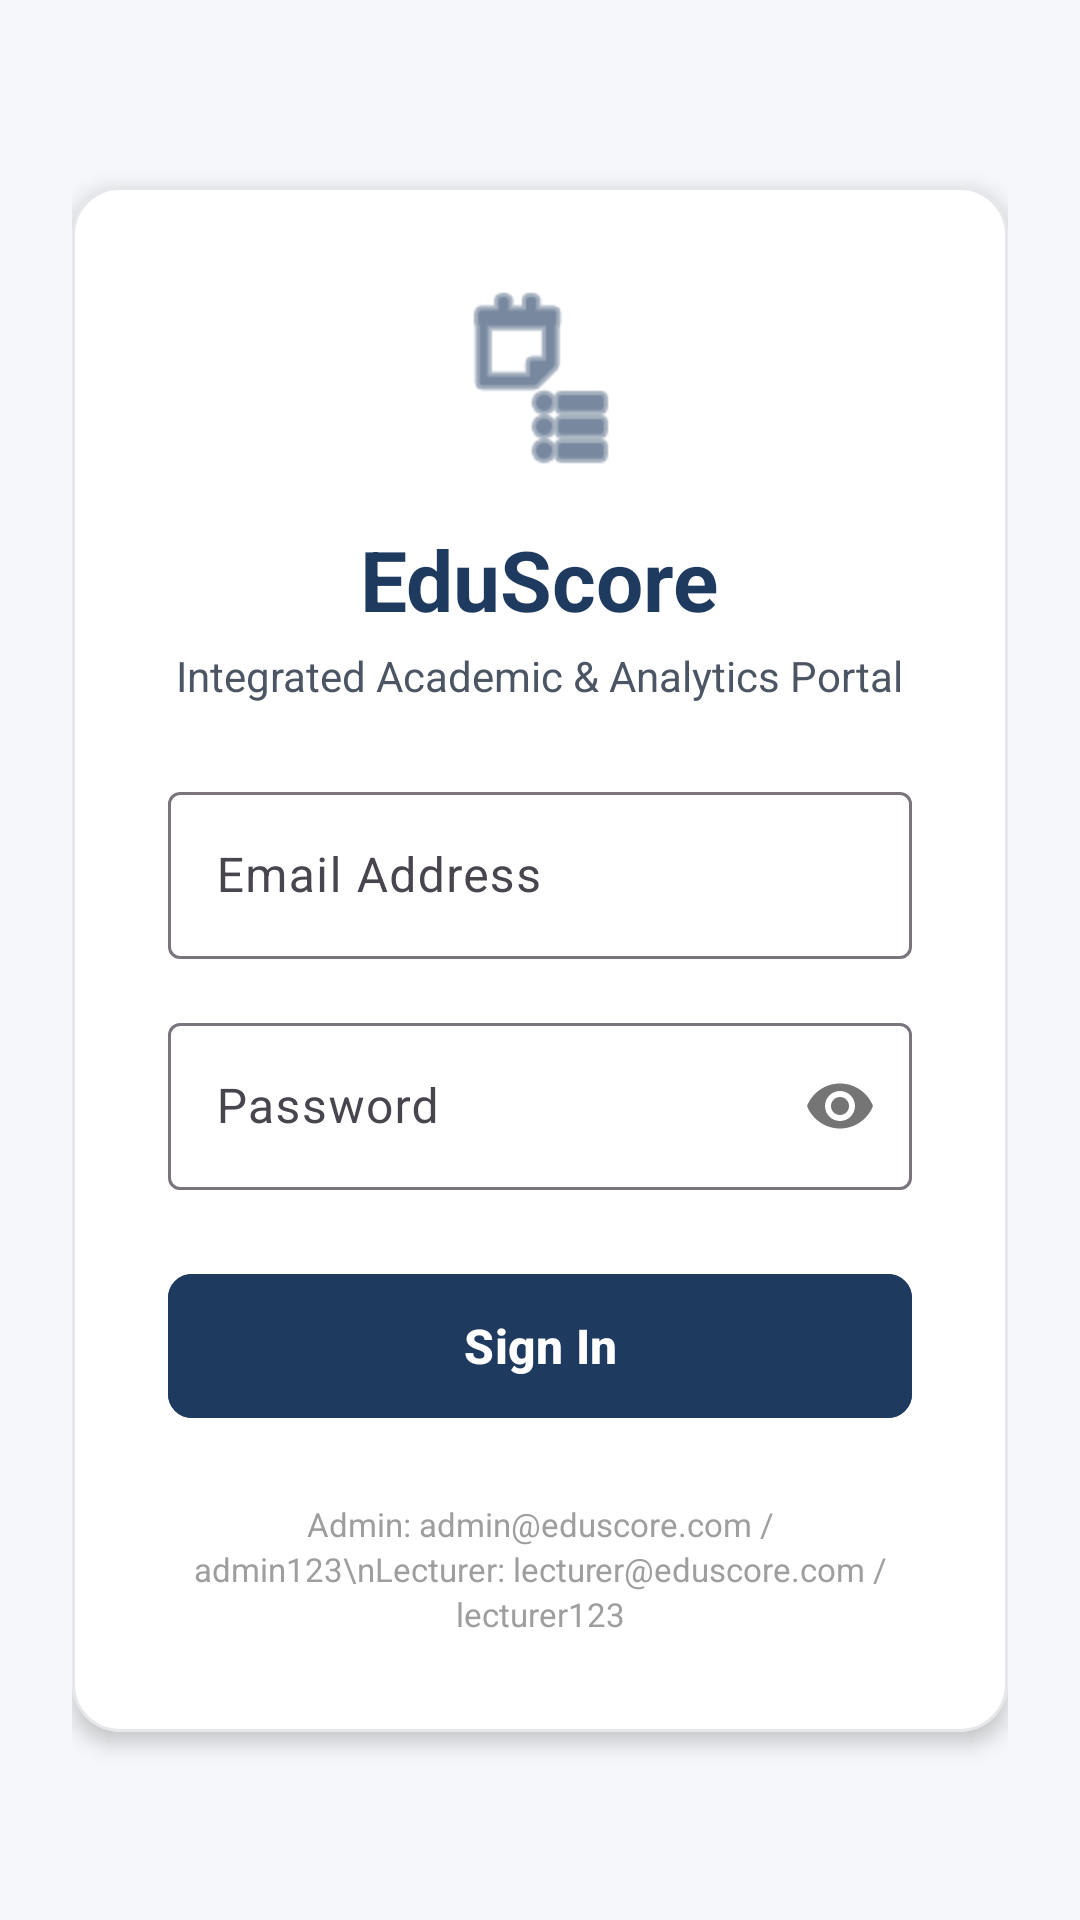

Icons on this 1080px×1920px Android screen, each with the point to tap as (x,y):
agenda: (541,377)
